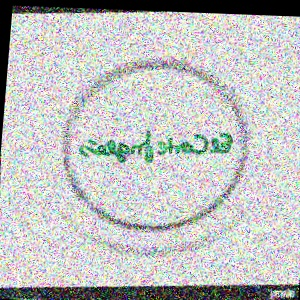corte_ingles: (190, 67, 276, 177)
